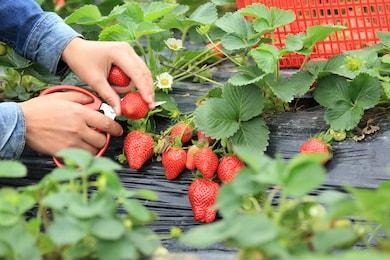Fresa: (187, 176, 225, 226), (123, 126, 159, 172), (216, 151, 250, 187), (160, 143, 187, 181), (120, 91, 149, 120), (169, 118, 194, 143)
